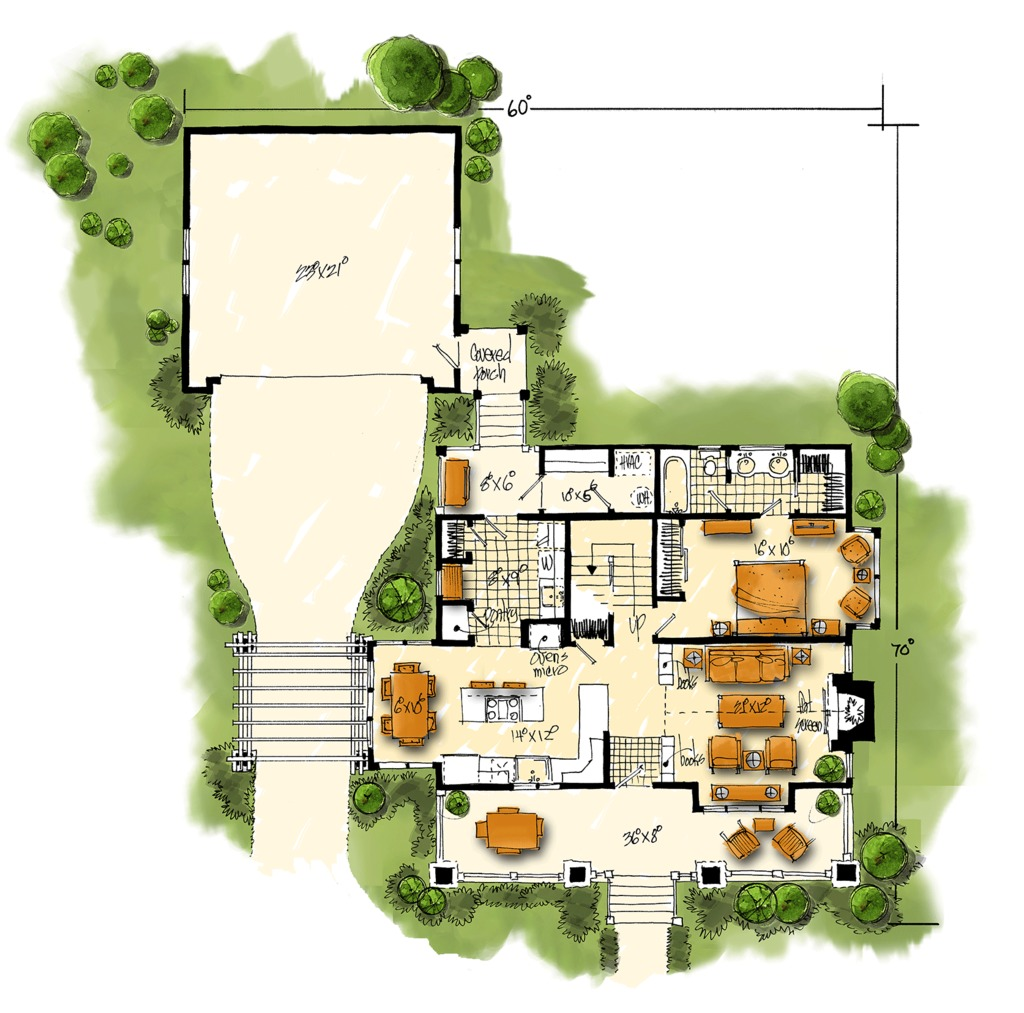bed: (728, 551, 812, 637)
dining_table: (372, 660, 448, 755), (466, 803, 559, 854)
kitchen_bar: (465, 672, 546, 729)
large_sink: (695, 443, 725, 479)
large_sofa: (702, 639, 805, 700)
sink: (508, 760, 559, 789)
small_sink: (735, 454, 794, 480)
small_sofa: (700, 726, 814, 772), (829, 531, 877, 572), (832, 583, 880, 623)
stairs: (585, 523, 659, 628), (589, 863, 688, 934), (471, 386, 526, 449)
tub: (651, 445, 688, 506)
window: (442, 220, 474, 299), (175, 225, 202, 303)
